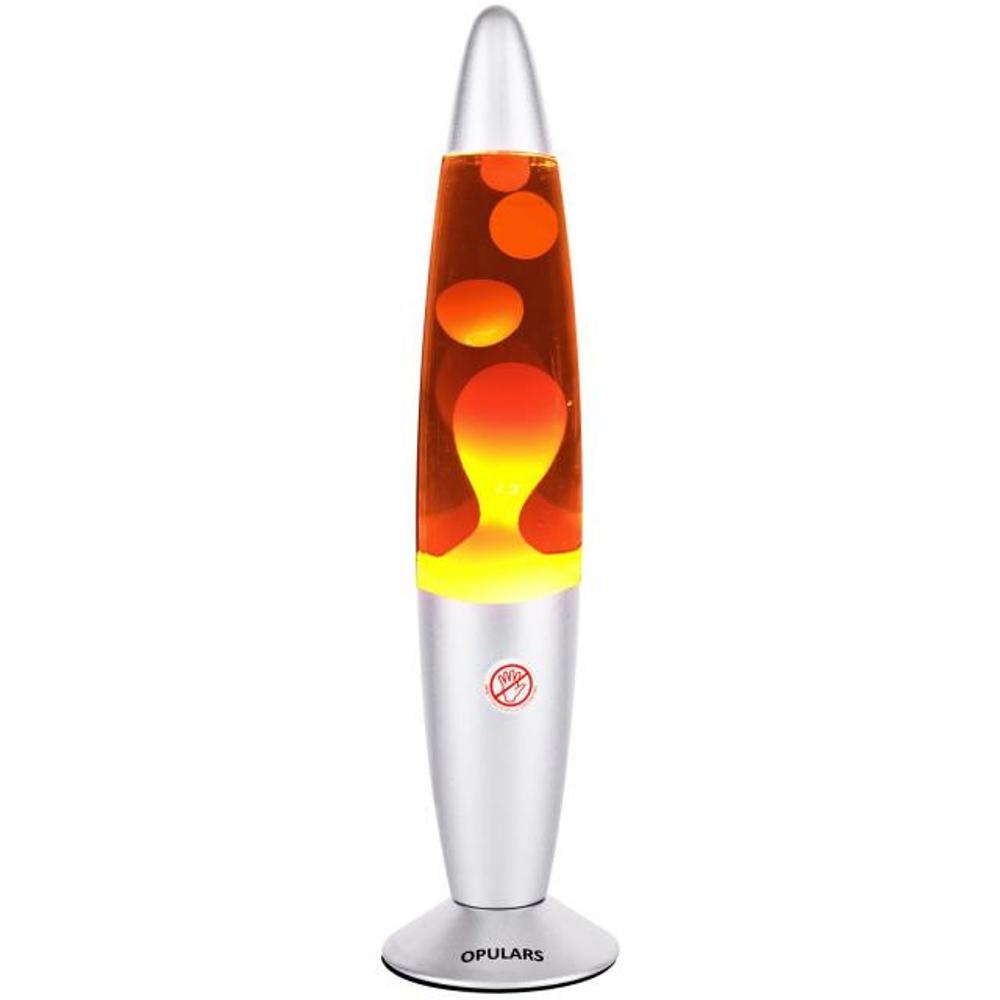shelf: (359, 2, 627, 991)
